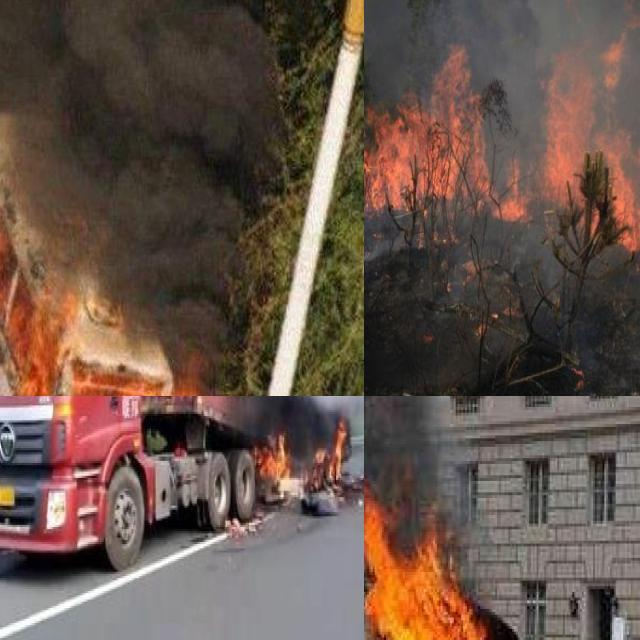fire: (0, 109, 209, 396), (364, 39, 533, 224), (540, 0, 640, 269), (364, 492, 489, 640), (238, 396, 349, 503)
smoke: (0, 0, 275, 370), (364, 0, 640, 93), (364, 396, 448, 538)
